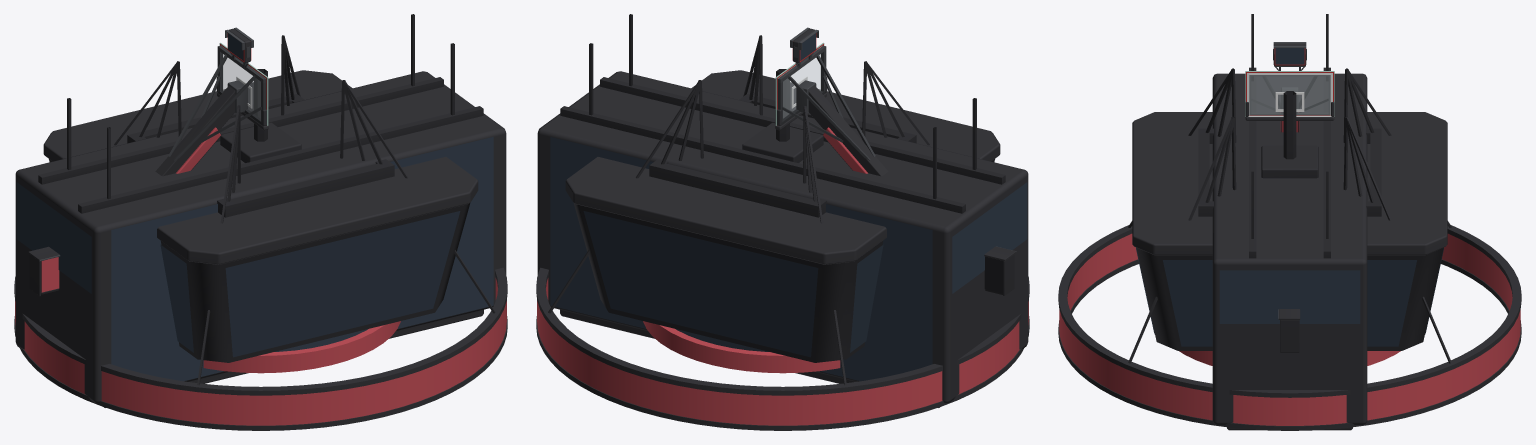
The model's file is arena.glb.
The picture shows the model from 3 angles, left to right: view 1: azimuth 30°, elevation 25°; view 2: azimuth 150°, elevation 25°; view 3: azimuth 270°, elevation 25°; orthographic projection. The views are drawn at different scales.
Visible parts, largest first — view 1: scoreboardLong, scoreboard, scoreboardHalo, hoop, table, scoreboardSlim; view 2: scoreboardLong, scoreboard, scoreboardHalo, hoop, table, scoreboardSlim; view 3: scoreboardLong, scoreboard, scoreboardHalo, hoop, scoreboardSlim, table.
Part boxes in pixels (x1,y1,x2,y2): scoreboardLong: (15, 14, 506, 407); scoreboard: (43, 35, 478, 373); scoreboardHalo: (14, 35, 507, 430); hoop: (155, 27, 268, 176); table: (28, 246, 60, 296); scoreboardSlim: (156, 36, 365, 192); scoreboardLong: (537, 14, 1028, 407); scoreboard: (565, 35, 1000, 373); scoreboardHalo: (536, 35, 1029, 430); hoop: (775, 27, 888, 176); table: (984, 246, 1016, 295); scoreboardSlim: (678, 36, 887, 192); scoreboardLong: (1212, 14, 1367, 430); scoreboard: (1132, 68, 1447, 365); scoreboardHalo: (1058, 68, 1521, 430); hoop: (1245, 42, 1334, 132); scoreboardSlim: (1217, 69, 1362, 196); table: (1278, 309, 1300, 352).
Size of the model in its own units: 34.4 by 22.42 by 32.32.
